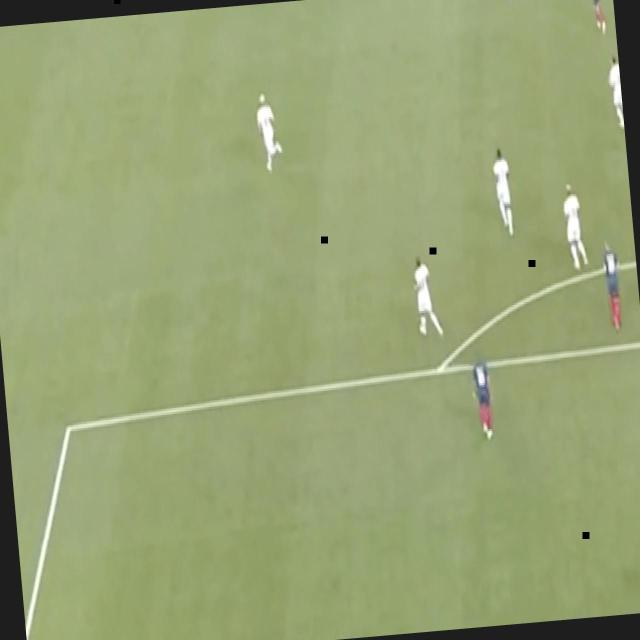player-white: (410, 253, 446, 339), (468, 351, 498, 443), (599, 237, 626, 333), (254, 92, 285, 174), (490, 147, 516, 241), (562, 180, 588, 274), (606, 54, 624, 130), (586, 0, 606, 38)
